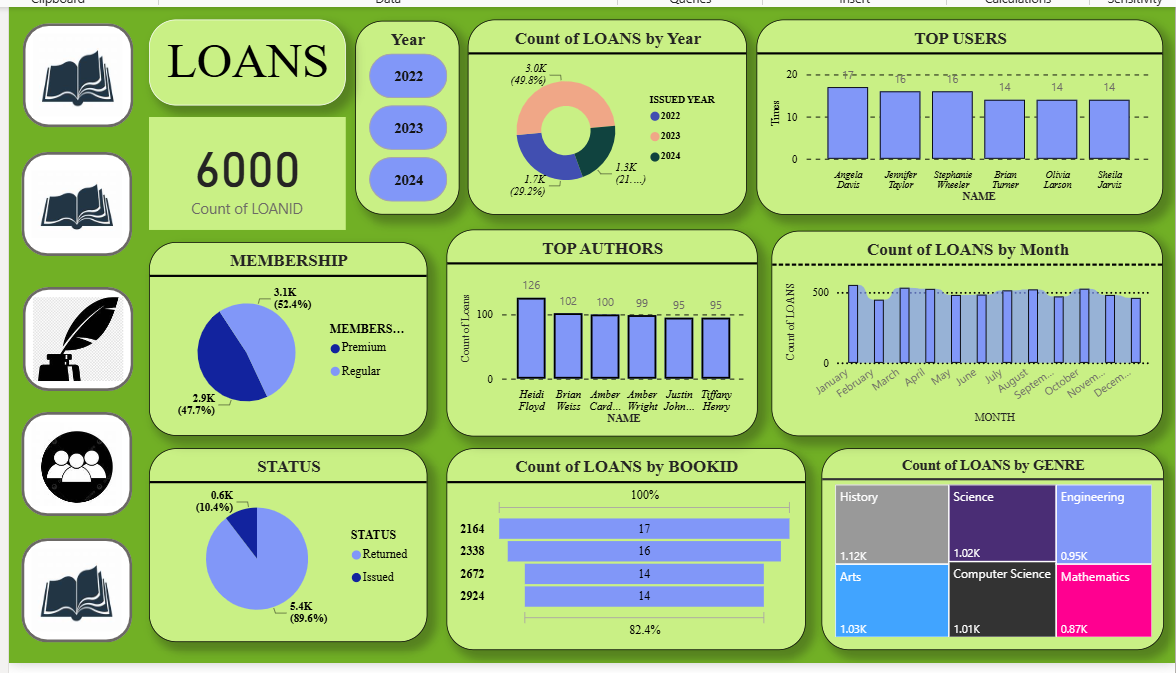

The page's visual inventory and layout, read from the dashboard file:
{"tool":"powerbi","page":{"name":"Page 4","canvas":[1280,720],"ordinal":4},"visuals":[{"type":"advancedSlicerVisual","fields":{"Values":["2025-06-02 11_23am.ISSUEDATE.Variation.Date Hierarchy.Year"]},"box":[379.8,15.3,114.1,212.9],"z":0},{"type":"pieChart","title":"STATUS","fields":{"Y":["CountNonNull(2025-06-02 11_23am.LOANID)"],"Category":["2025-06-02 11_23am.STATUS"]},"box":[154.3,484.3,305.7,212.9],"z":1000},{"type":"funnel","title":"Count of LOANS by BOOKID","fields":{"Y":["CountNonNull(2025-06-02 11_23am.LOANID)"],"Category":["2025-06-02 11_23am (2).BOOKID"]},"box":[480,484.3,394.3,221.4],"z":2000},{"type":"pieChart","title":"MEMBERSHIP","fields":{"Y":["CountNonNull(2025-06-02 11_23am.LOANID)"],"Series":["2025-06-02 11_23am (3).MEMBERSHIPTYPE"]},"box":[154.3,258.6,305.7,212.9],"z":3000},{"type":"donutChart","title":"Count of LOANS by Year","fields":{"Y":["CountNonNull(2025-06-02 11_23am.LOANID)"],"Category":["2025-06-02 11_23am.ISSUEDATE.Variation.Date Hierarchy.Year"]},"box":[503.7,13.9,306.1,214.3],"z":4000},{"type":"clusteredColumnChart","title":"TOP AUTHORS","fields":{"Y":["CountNonNull(2025-06-02 11_23am.LOANID)"],"Category":["2025-06-02 11_23am (1).NAME"]},"box":[480,244.3,341.4,227.1],"z":5000},{"type":"treemap","title":"Count of LOANS by GENRE","fields":{"Group":["2025-06-02 11_23am (2).GENRE"],"Values":["CountNonNull(2025-06-02 11_23am.LOANID)"]},"box":[891.8,484.2,375.7,221.2],"z":6000},{"type":"clusteredColumnChart","title":"TOP USERS","fields":{"Category":["2025-06-02 11_23am (3).NAME"],"Y":["CountNonNull(2025-06-02 11_23am.LOANID)"]},"box":[820.9,13.9,446.6,214.3],"z":7000},{"type":"ribbonChart","title":"Count of LOANS by Month","fields":{"Category":["2025-06-02 11_23am.ISSUEDATE.Variation.Date Hierarchy.Month"],"Y":["CountNonNull(2025-06-02 11_23am.LOANID)"]},"box":[837.6,246.3,429.9,225.4],"z":8000},{"type":"textbox","box":[154.3,14.3,215.7,94.3],"z":9000},{"type":"card","fields":{"Values":["CountNonNull(2025-06-02 11_23am.LOANID)"]},"box":[154.3,121.4,215.7,124.3],"z":10000},{"type":"actionButton","box":[15.4,17.7,121.4,114.3],"z":11000},{"type":"actionButton","box":[14.3,444.3,121.4,114.3],"z":12000},{"type":"actionButton","box":[15.7,307.1,121.4,114.3],"z":13000},{"type":"actionButton","box":[14.3,582.9,121.4,114.3],"z":14000},{"type":"actionButton","box":[14.3,158.6,121.4,114.3],"z":15000}]}

Visuals, with their boxes in screenshot pixels (x1, y1, x2, y2):
advancedSlicerVisual - 2025-06-02 11_23am.ISSUEDATE.Variation.Date Hierarchy.Year: bbox(353, 51, 457, 244)
"STATUS" pieChart: bbox(149, 476, 426, 668)
"Count of LOANS by BOOKID" funnel: bbox(444, 476, 801, 672)
"MEMBERSHIP" pieChart: bbox(149, 271, 426, 464)
"Count of LOANS by Year" donutChart: bbox(466, 49, 743, 244)
"TOP AUTHORS" clusteredColumnChart: bbox(444, 258, 753, 464)
"Count of LOANS by GENRE" treemap: bbox(817, 475, 1158, 672)
"TOP USERS" clusteredColumnChart: bbox(753, 49, 1158, 244)
"Count of LOANS by Month" ribbonChart: bbox(768, 260, 1158, 464)
textbox: bbox(149, 50, 344, 135)
card - CountNonNull(2025-06-02 11_23am.LOANID): bbox(149, 147, 344, 259)
actionButton: bbox(23, 53, 133, 156)
actionButton: bbox(22, 439, 132, 543)
actionButton: bbox(23, 315, 133, 419)
actionButton: bbox(22, 565, 132, 668)
actionButton: bbox(22, 180, 132, 284)
